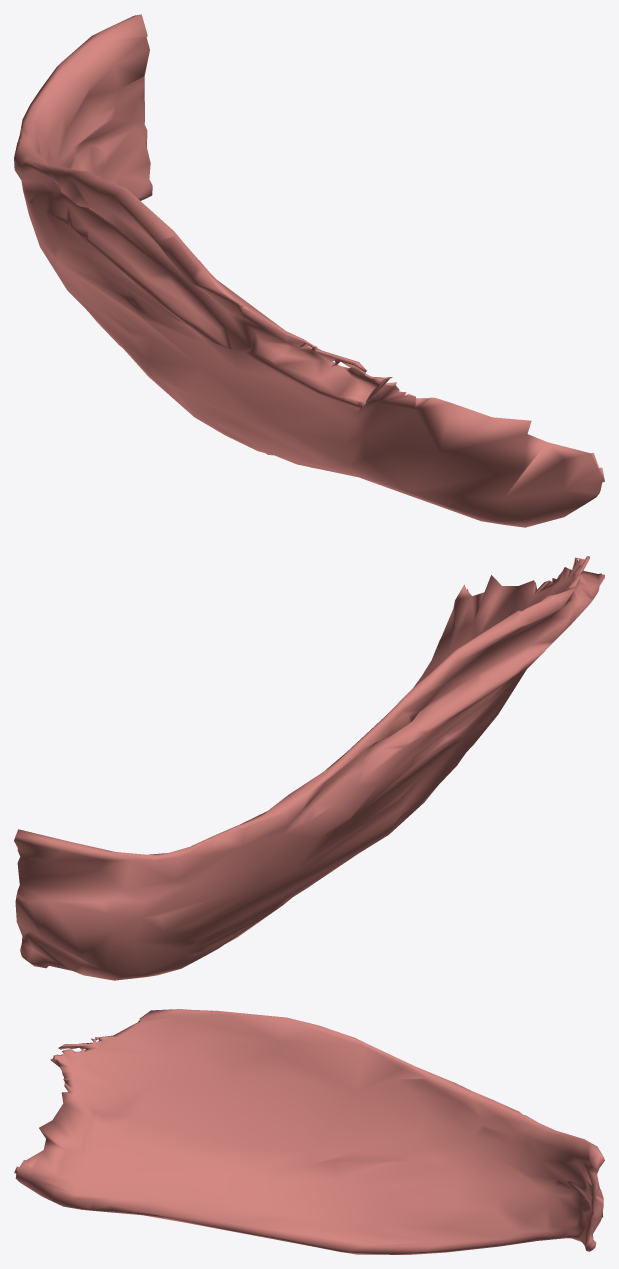
The picture shows the model from 3 angles, top to bottom: view 1: azimuth 30°, elevation 25°; view 2: azimuth 150°, elevation 25°; view 3: azimuth 270°, elevation 25°; orthographic projection. The views are drawn at different scales.
Parts seen in each view (by area): view 1: ZA_bfafa0a1be0b078f; view 2: ZA_bfafa0a1be0b078f; view 3: ZA_bfafa0a1be0b078f.
Part boxes in pixels (<box>): ZA_bfafa0a1be0b078f: <box>14,14,604,527</box>; ZA_bfafa0a1be0b078f: <box>14,556,604,980</box>; ZA_bfafa0a1be0b078f: <box>14,1009,604,1254</box>.
Bounding box in the file's own units: 0.0304 × 0.0302 × 0.0843.
